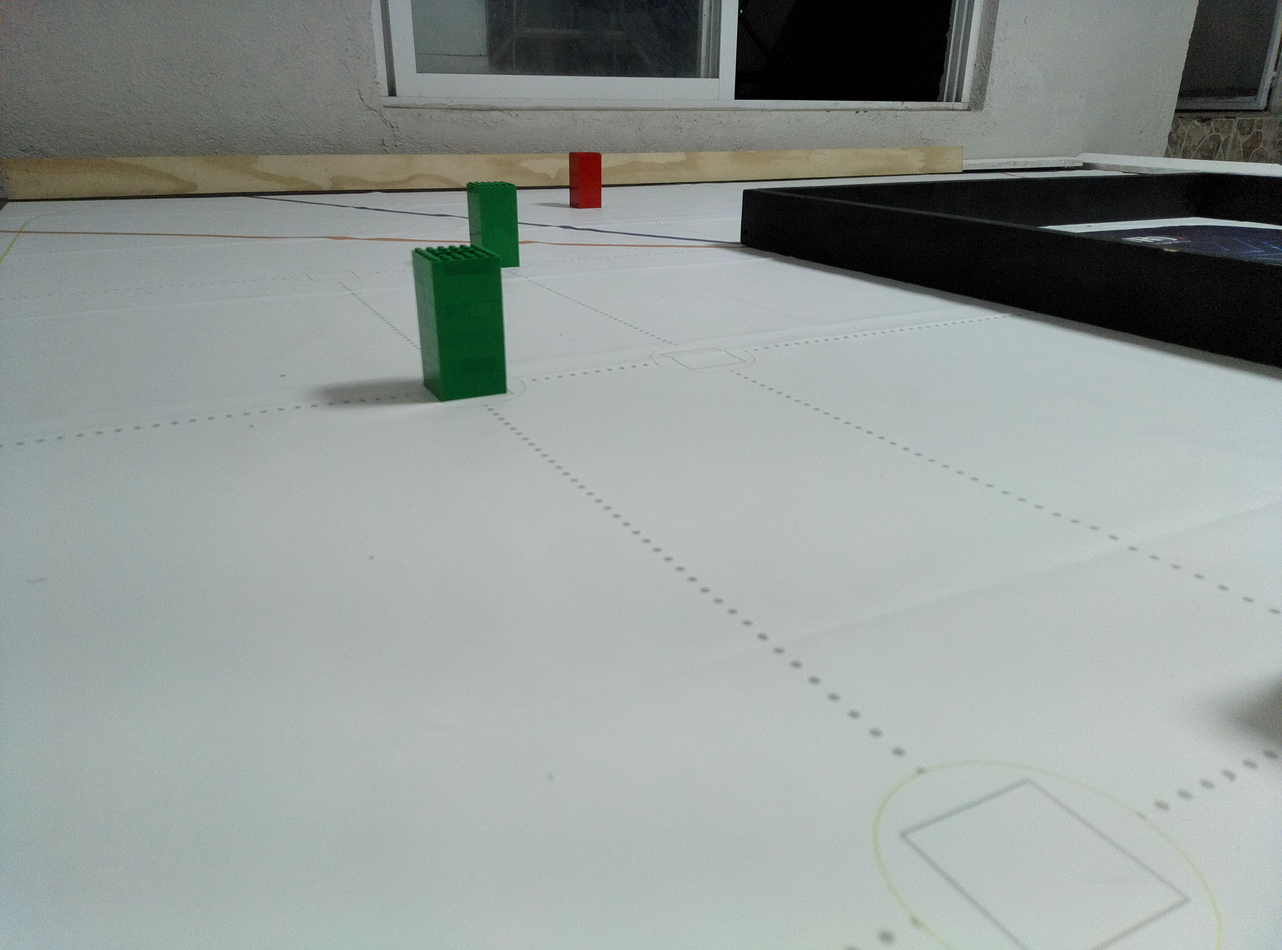greenbox: (410, 245, 508, 403), (466, 181, 520, 267)
redbox: (569, 152, 601, 209)
